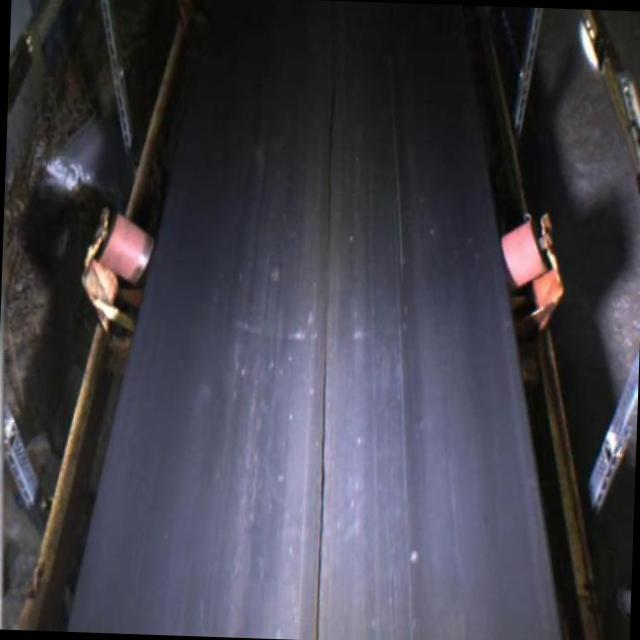Tear: (304, 93, 339, 640)
